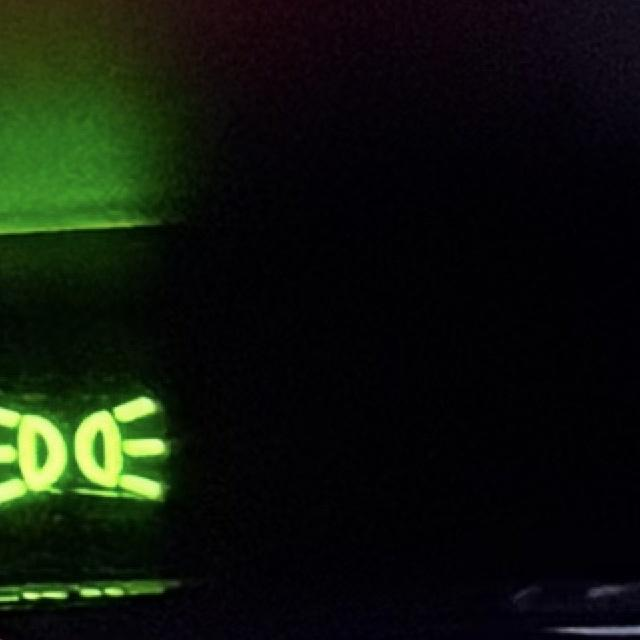Parking Light On: (1, 392, 170, 513)
